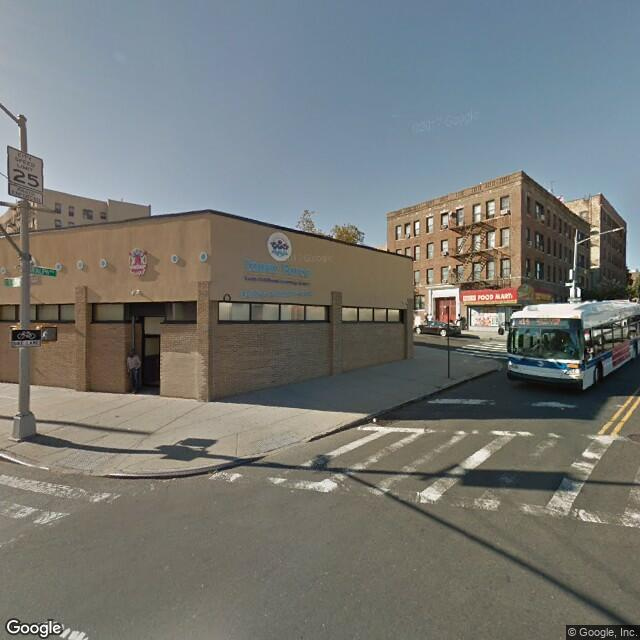litter: (373, 417, 380, 424), (125, 425, 131, 431), (489, 383, 494, 387), (559, 406, 563, 408)
